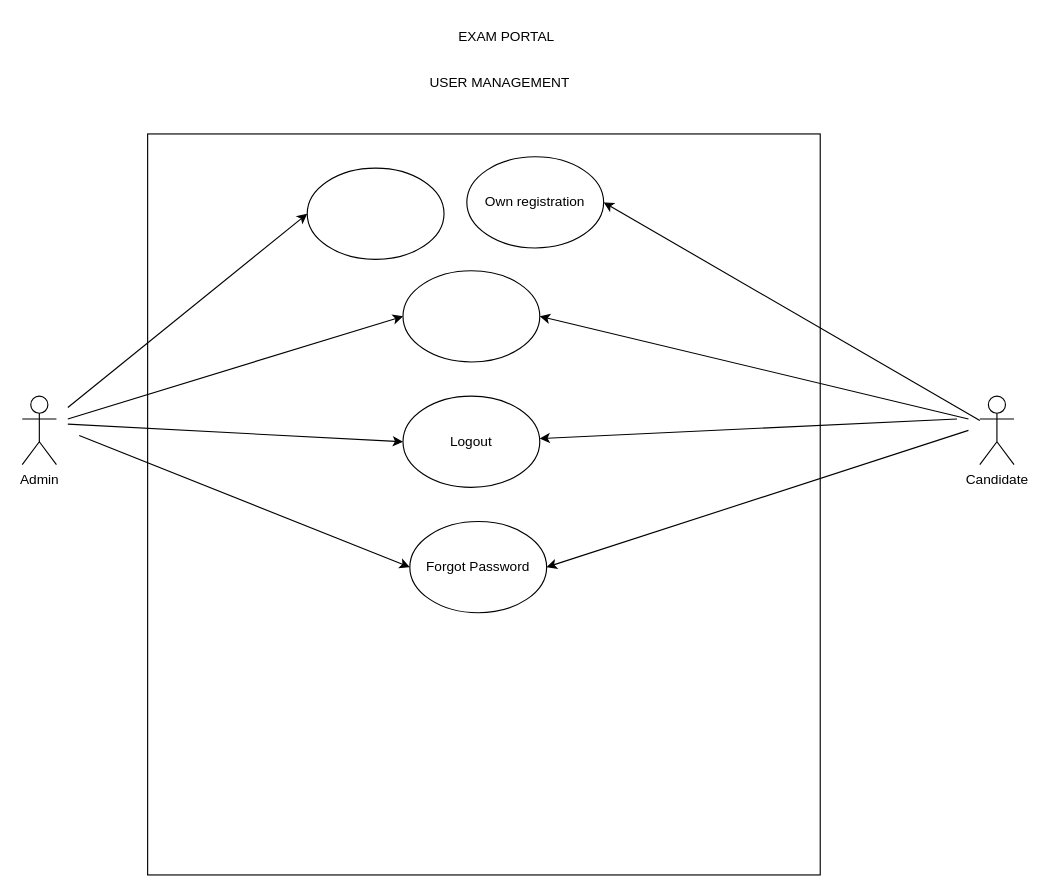
The diagram is 1048 pixels wide and 895 high, and some of its shapes have lost their labels. The shapes that lost their labels are listed below. From the top down, each one's centre as x and y in pixels, then its label:
At (375,213): "Register of Other Admin".
At (471,316): "Login".
